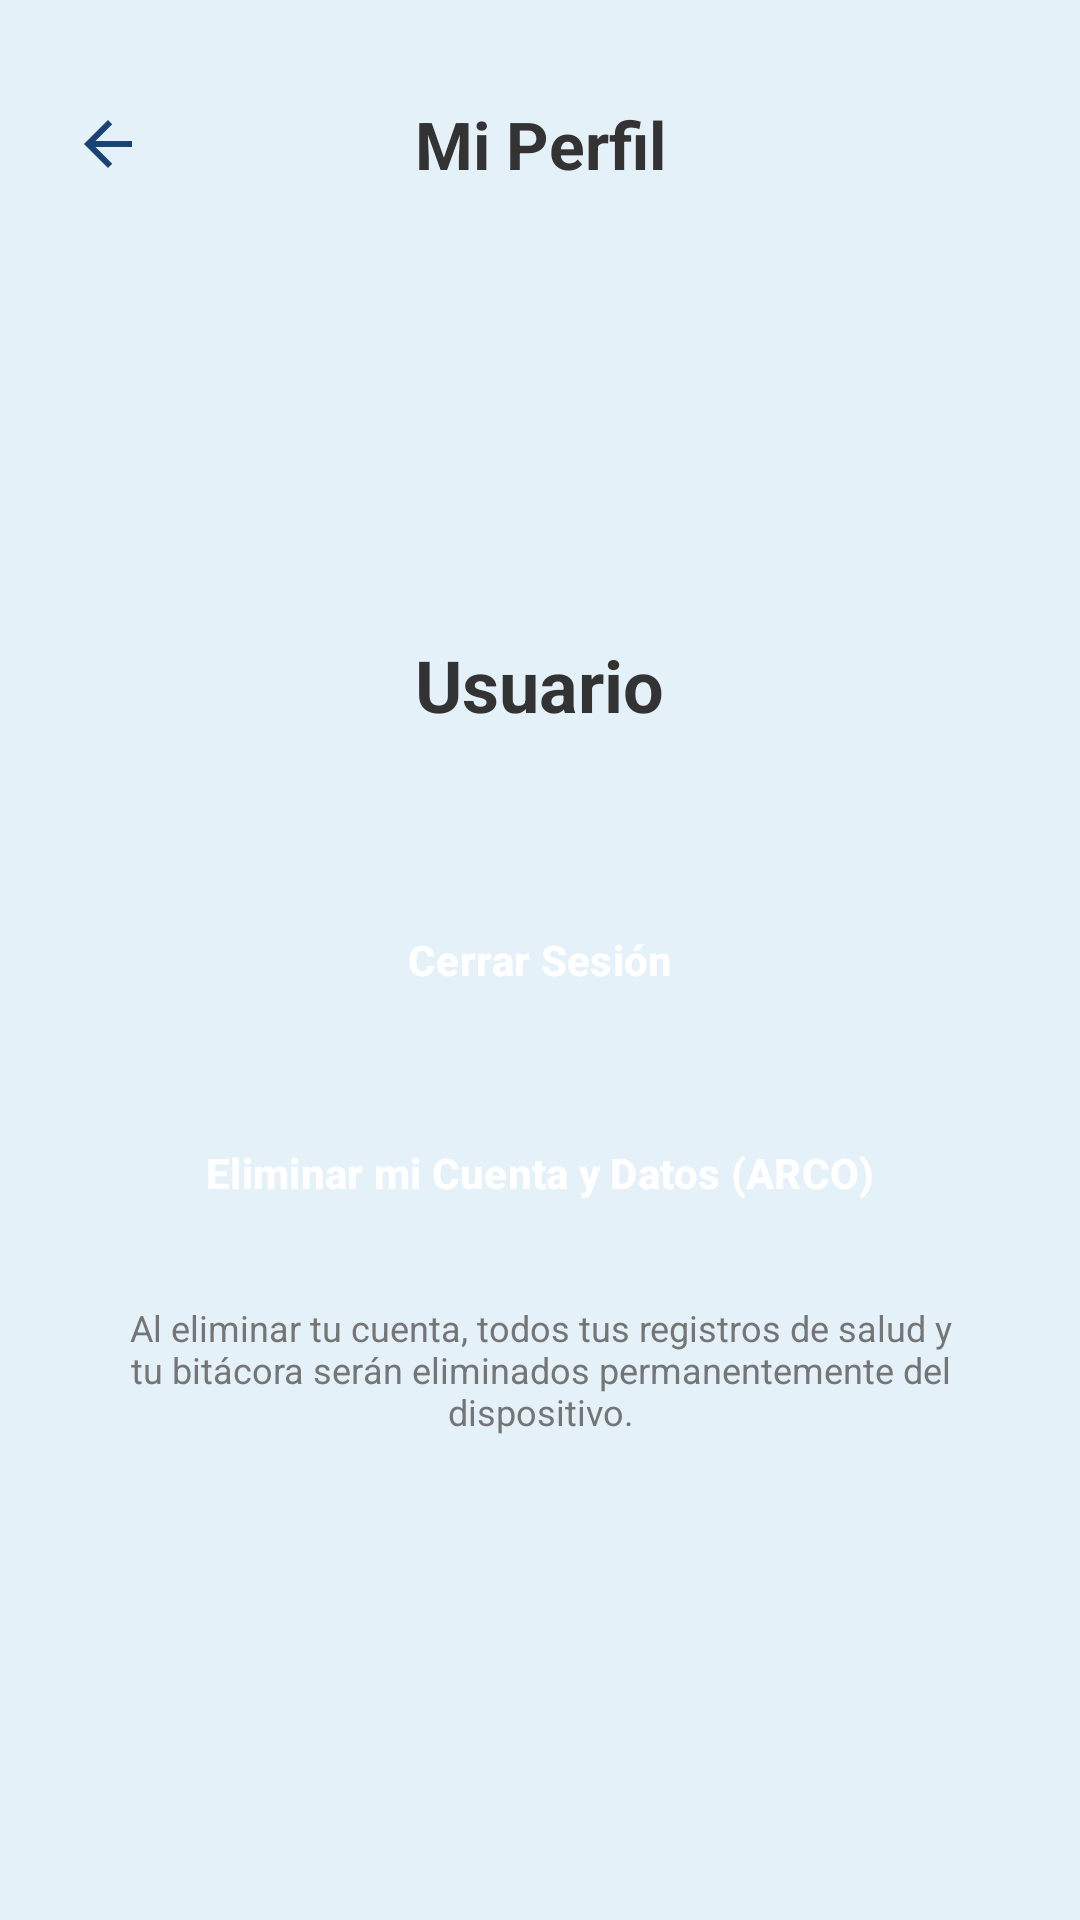

Point at icon controls on the screen. Image size 1080×1920, points as [x,y].
flecha regresar: [108,144]
